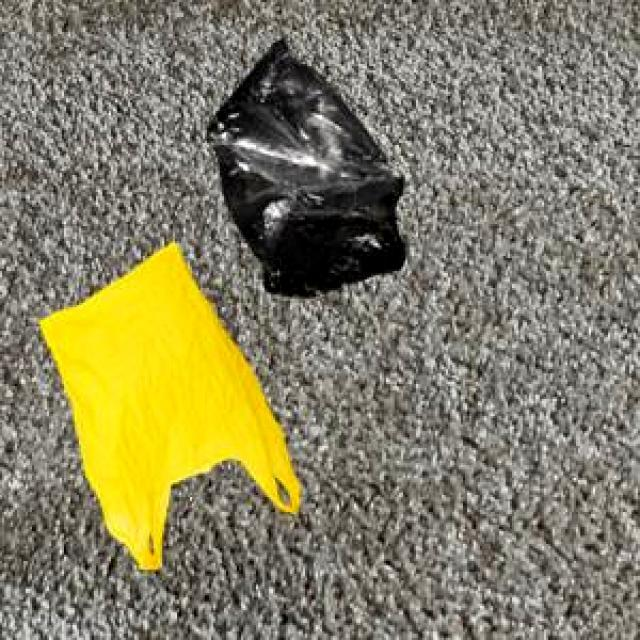Plastic_Bag: (37, 239, 296, 566), (204, 35, 402, 296)
